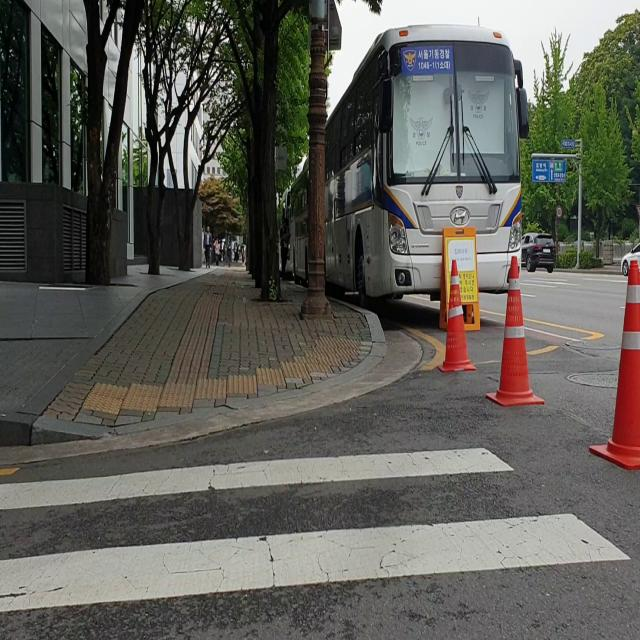횡단보도: (0, 444, 634, 616)
